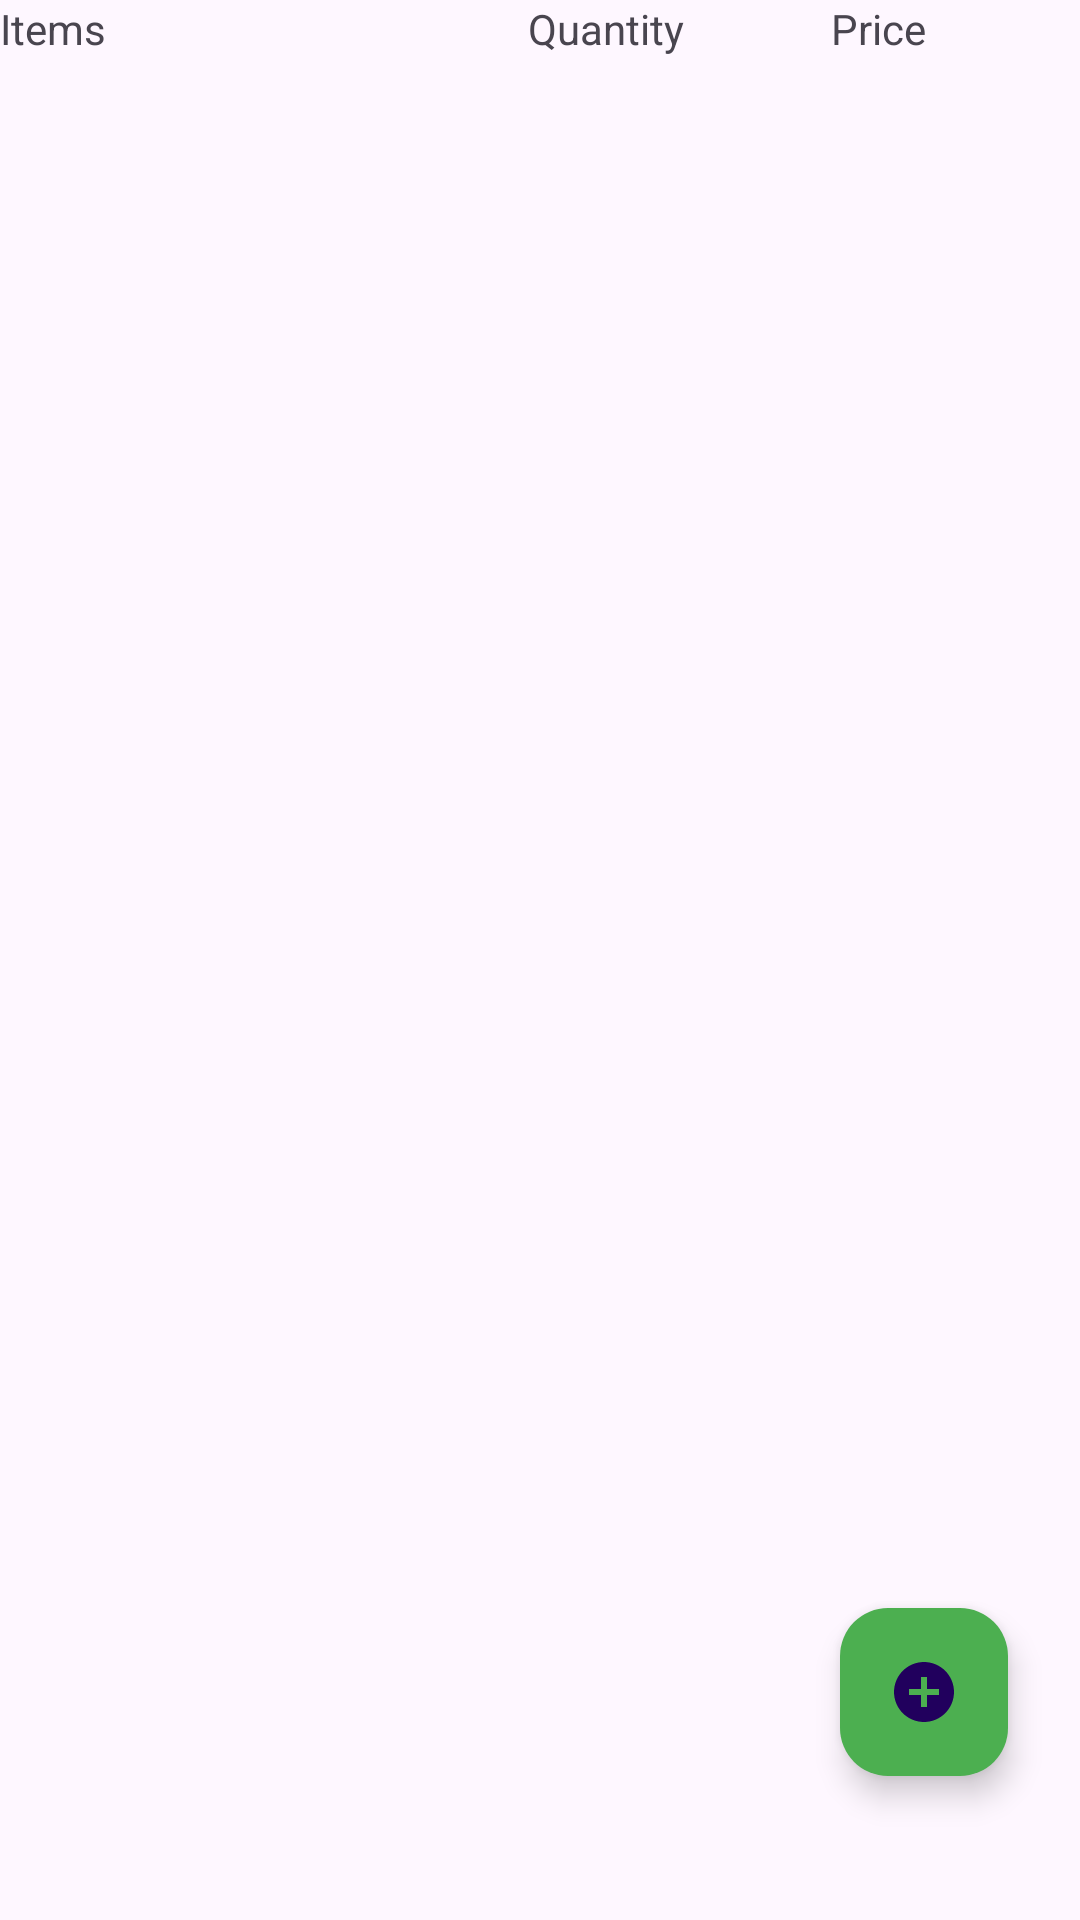

Where to tap for icons on this 1080px×1920px app screen, as (x=x, y=y):
Add new item: (x=924, y=1692)
